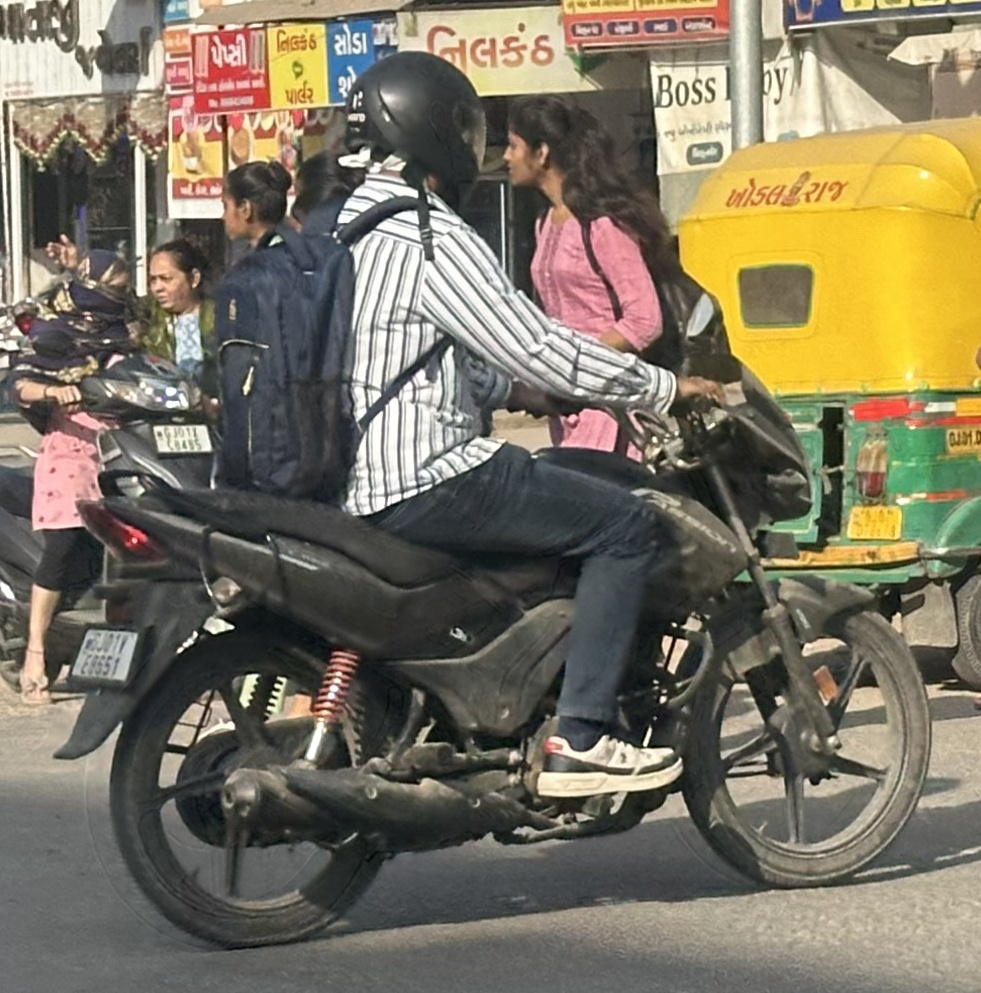BikeWithRider: (41, 39, 945, 960)
Helmet: (331, 41, 497, 216)
